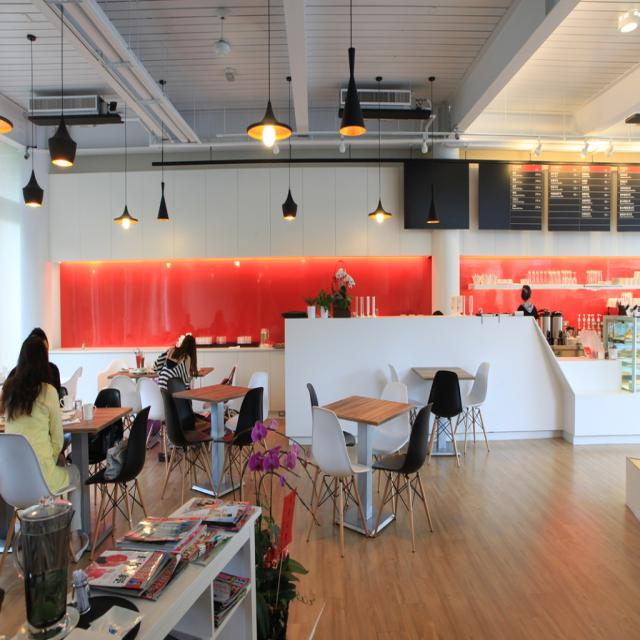chair: (0, 432, 76, 577), (306, 404, 374, 555), (372, 405, 438, 551), (89, 404, 151, 556), (159, 382, 213, 504), (212, 387, 264, 498), (424, 368, 464, 468), (457, 361, 492, 454), (306, 382, 319, 406)
desk: (10, 498, 259, 638)
person: (0, 337, 81, 534), (157, 332, 215, 452), (514, 283, 540, 317)
